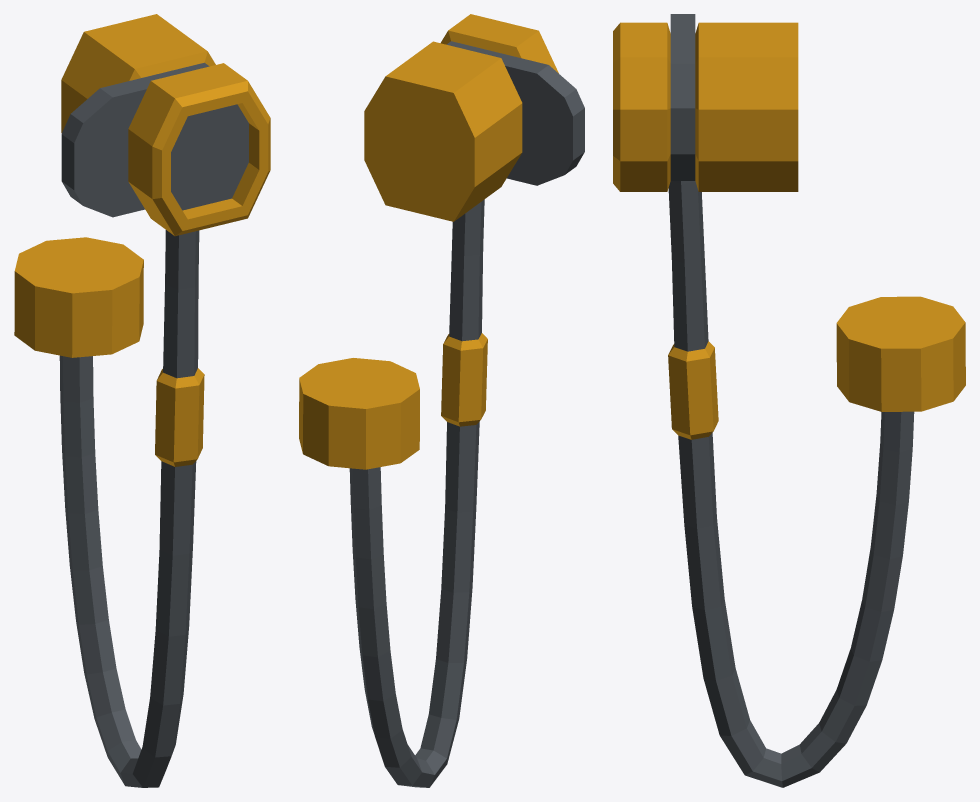
The model's file is Dropship_02_Cable_Yellow.fbx.
3 renders of one model, left to right at view 1: azimuth 30°, elevation 25°; view 2: azimuth 150°, elevation 25°; view 3: azimuth 270°, elevation 25°, orthographic. The views are drawn at different scales.
Visible parts, largest first — view 1: Dropship_02_Cable_Yellow; view 2: Dropship_02_Cable_Yellow; view 3: Dropship_02_Cable_Yellow.
Part boxes in pixels (bbox=[...]): Dropship_02_Cable_Yellow: bbox=[14, 14, 270, 787]; Dropship_02_Cable_Yellow: bbox=[299, 14, 584, 787]; Dropship_02_Cable_Yellow: bbox=[613, 14, 965, 787].
Bounding box in the file's own units: 103 × 422 × 182.
Materials: 1 (1 with a texture image).
